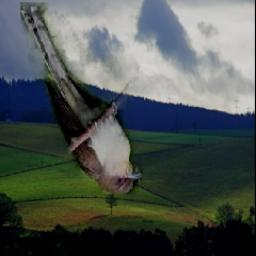Cuckoo: (21, 2, 144, 194)
